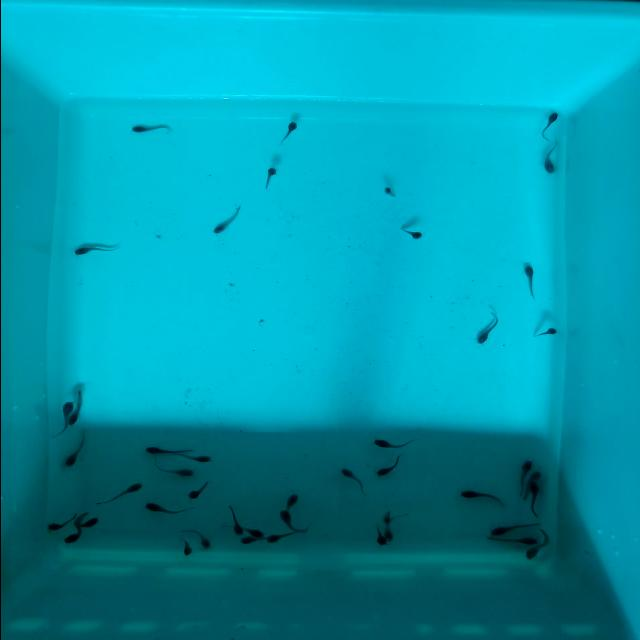lele: (93, 480, 145, 508), (60, 432, 90, 473), (210, 204, 244, 240), (522, 527, 554, 563), (339, 463, 372, 496), (49, 396, 72, 441), (175, 522, 211, 550), (472, 313, 500, 349), (372, 451, 406, 480), (489, 517, 533, 539), (276, 507, 308, 537), (456, 488, 506, 507), (67, 390, 89, 432), (146, 464, 196, 482), (510, 457, 533, 493), (142, 501, 188, 518), (72, 242, 118, 258), (536, 111, 558, 142), (276, 120, 300, 148), (540, 138, 558, 174), (370, 437, 416, 451), (185, 478, 211, 502), (485, 534, 537, 546), (226, 502, 244, 536), (264, 528, 302, 544), (142, 446, 192, 458), (522, 264, 536, 302), (524, 481, 538, 518), (74, 512, 102, 529), (259, 164, 277, 190), (174, 534, 193, 558), (129, 124, 171, 134), (177, 452, 211, 463), (530, 326, 556, 340), (240, 525, 264, 540), (238, 534, 268, 546), (398, 227, 422, 241), (58, 533, 88, 544), (524, 469, 544, 485), (43, 520, 69, 532), (371, 526, 383, 548), (286, 490, 298, 510), (382, 524, 395, 540), (382, 185, 396, 199), (382, 508, 389, 524)
